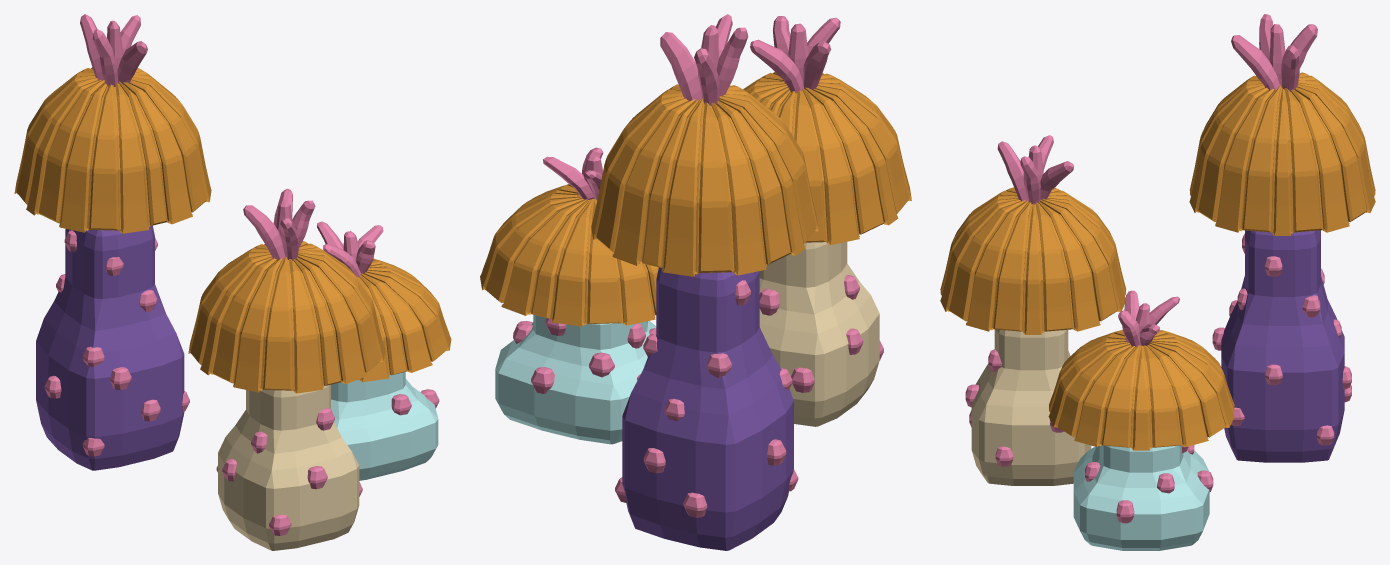
Rendered from Spring_Flower_2_Actual2.fbx.
3 views of the same model, side by side, from view 1: azimuth 30°, elevation 25°; view 2: azimuth 150°, elevation 25°; view 3: azimuth 270°, elevation 25° (orthographic). The views are drawn at different scales.
Visible parts, largest first — view 1: Cube.080; view 2: Cube.080; view 3: Cube.080.
Part boxes in pixels (bbox=[...]): Cube.080: bbox=[14, 14, 451, 550]; Cube.080: bbox=[480, 14, 911, 550]; Cube.080: bbox=[940, 14, 1375, 550].
Bounding box in the file's own units: 148 × 180 × 171.
